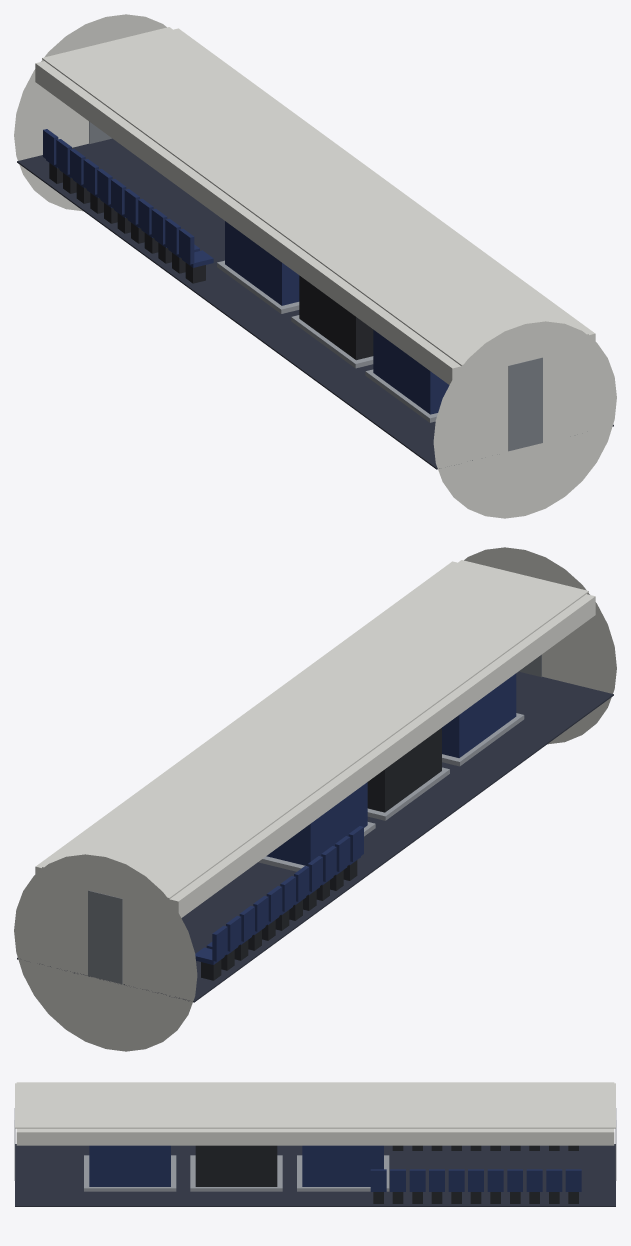
File: lat_quad_turboprop_cabin.dae
3 renders of one model, top to bottom at view 1: azimuth 30°, elevation 25°; view 2: azimuth 150°, elevation 25°; view 3: azimuth 270°, elevation 25°, orthographic. The views are drawn at different scales.
Visible parts, largest first — view 1: lat_quad_turboprop_cabin64; view 2: lat_quad_turboprop_cabin64; view 3: lat_quad_turboprop_cabin64.
Boxes of the visible parts, box(x1,y1,x2,y2) form: lat_quad_turboprop_cabin64: box(14, 14, 616, 518); lat_quad_turboprop_cabin64: box(14, 547, 616, 1051); lat_quad_turboprop_cabin64: box(14, 1082, 616, 1206).
Bounding box in the file's own units: 4.28 × 16.99 × 4.28.
